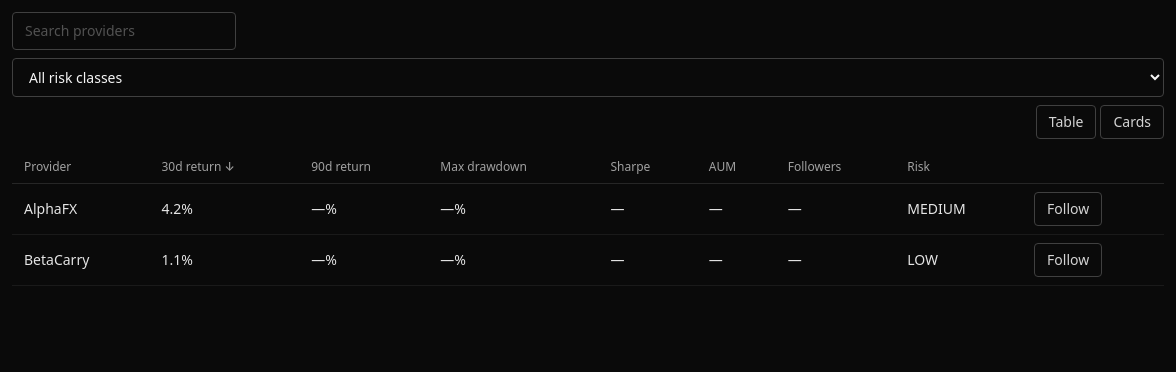
Test: StrategyBrowser › renders provider rows and toggles to cards when live data exists
The image size is (1176, 372).
Expected: the text "AlphaFX" is shown, [12, 184, 150, 234]
Expected: the text "BetaCarry" is shown, [12, 234, 150, 286]
Click the button "Cards" at [1132, 122], box [1100, 105, 1164, 139]
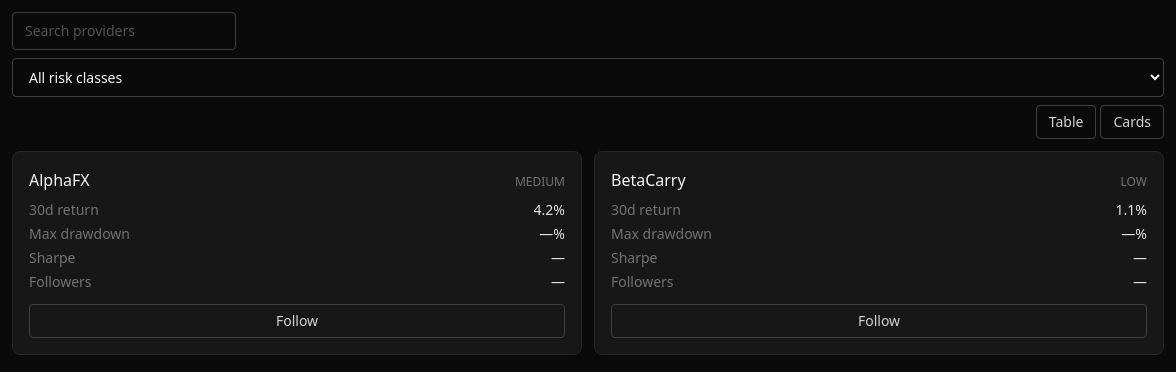
Expected: the table is gone
// risk filter narrows
Select "LOW risk" in the dropdown named "Risk class filter" at [588, 78], box [12, 58, 1164, 97]
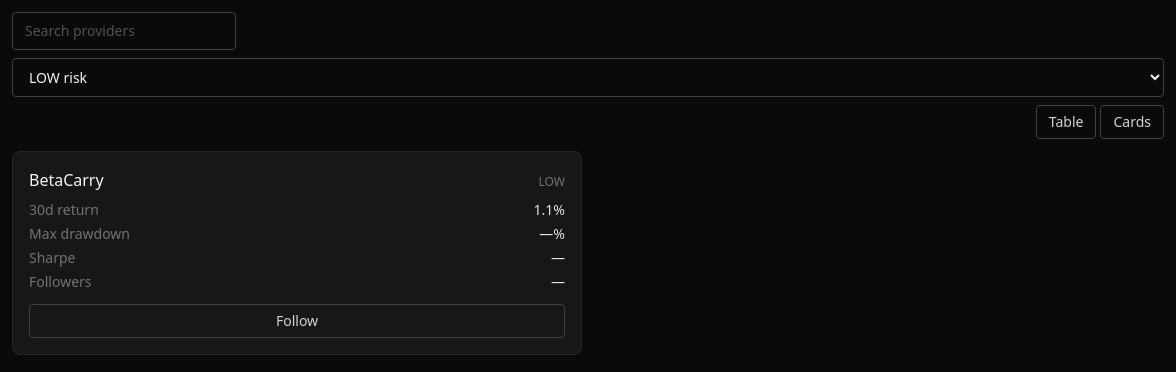
Expected: the heading "BetaCarry" is shown, [29, 168, 104, 192]
Expected: the heading "AlphaFX" is gone
